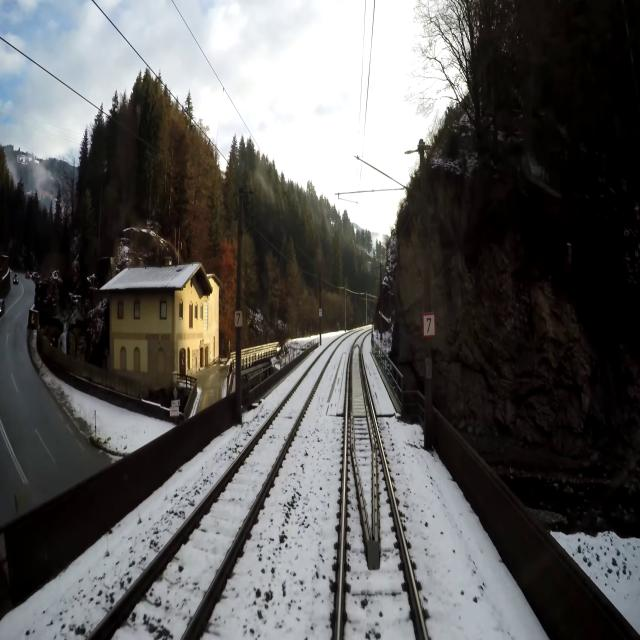rail-track: (93, 340, 339, 639), (341, 392, 424, 639), (353, 347, 372, 537), (356, 336, 363, 345)
